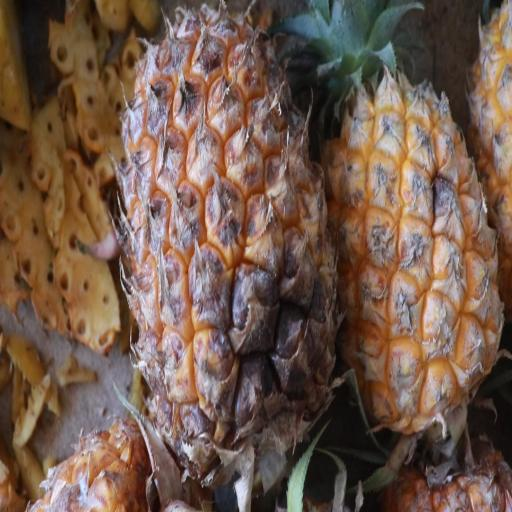Pineapple - v8 v1: (119, 0, 346, 487), (317, 1, 504, 441)
